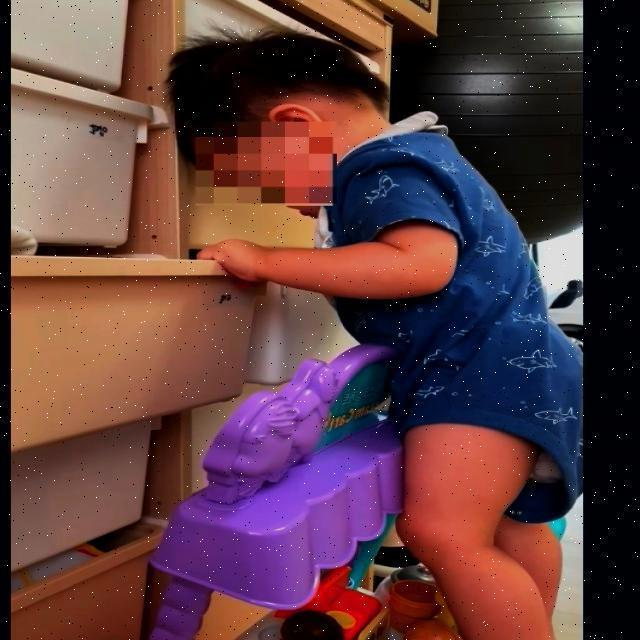child: (183, 38, 589, 640)
